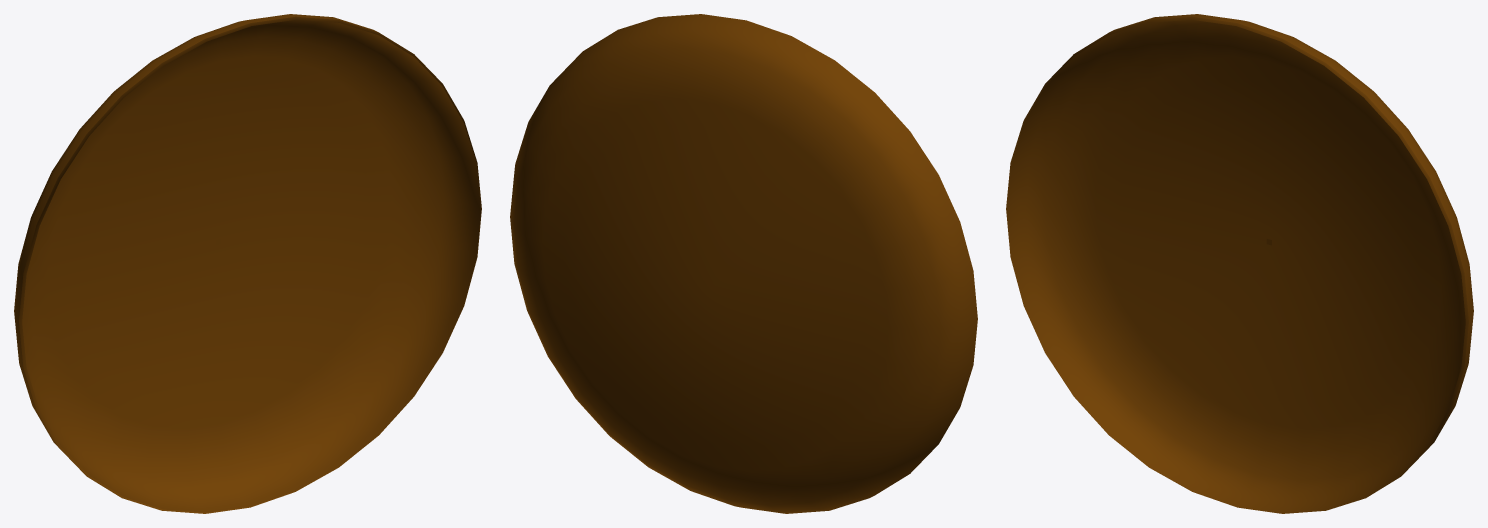
Rendered from MeshPan_29_0_GeomSubset_1.obj.
3 views of the same model, side by side, from view 1: azimuth 30°, elevation 25°; view 2: azimuth 150°, elevation 25°; view 3: azimuth 330°, elevation 25° (orthographic).
Parts seen in each view (by area): view 1: MeshPan_29_0_GeomSubset_1; view 2: MeshPan_29_0_GeomSubset_1; view 3: MeshPan_29_0_GeomSubset_1.
Boxes of the visible parts, box(x1,y1,x2,y2) form: MeshPan_29_0_GeomSubset_1: box(14, 14, 481, 513); MeshPan_29_0_GeomSubset_1: box(510, 14, 977, 513); MeshPan_29_0_GeomSubset_1: box(1006, 14, 1473, 513).
Bounding box in the file's own units: 0.2484 × 0.2484 × 0.0313.
